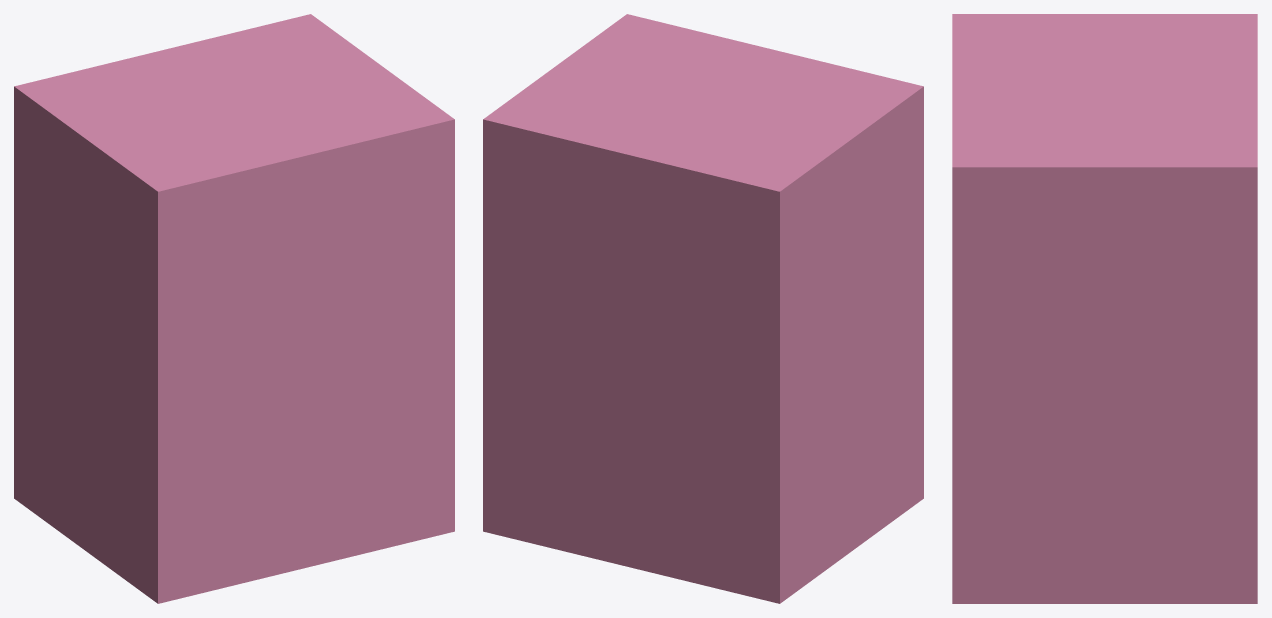
Rendered from tree_aspen_overhang_a.dae.
The picture shows the model from 3 angles, left to right: view 1: azimuth 30°, elevation 25°; view 2: azimuth 150°, elevation 25°; view 3: azimuth 270°, elevation 25°; orthographic projection. The views are drawn at different scales.
Parts seen in each view (by area): view 1: Untitled; view 2: Untitled; view 3: Untitled.
Part boxes in pixels (x1,y1,x2,y2): Untitled: (14,14,454,603); Untitled: (483,14,923,603); Untitled: (952,14,1257,603).
Bounding box in the file's own units: 6.59 × 5.54 × 8.76.
